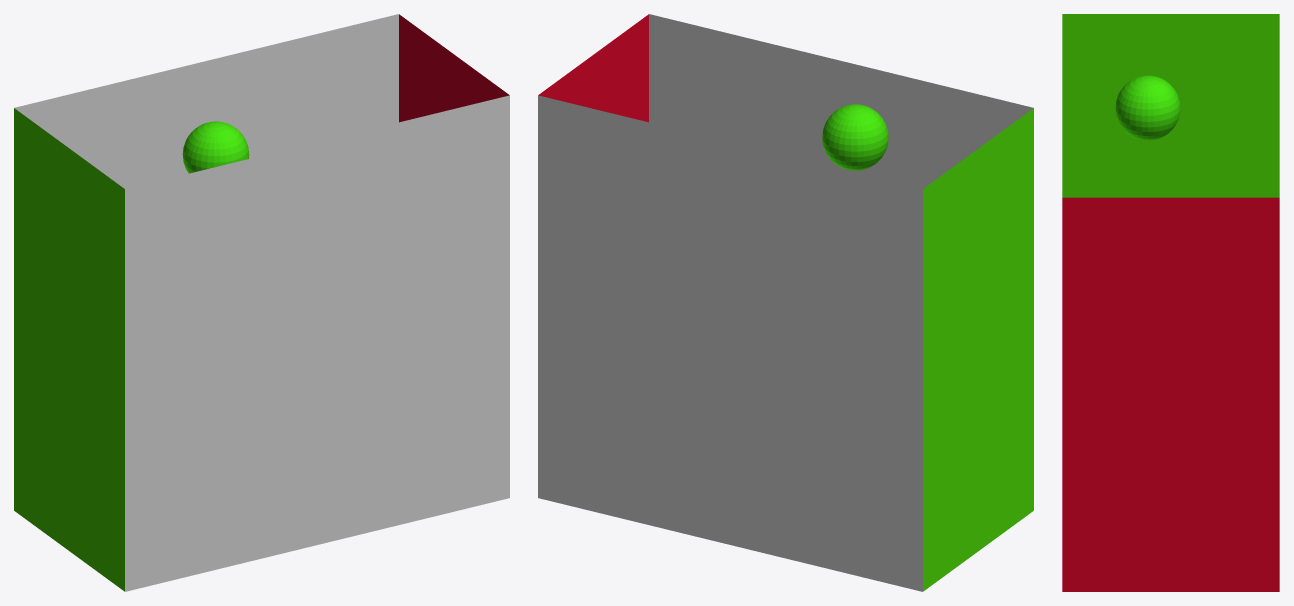
File: path_tracing_scene.dae
The picture shows the model from 3 angles, left to right: view 1: azimuth 30°, elevation 25°; view 2: azimuth 150°, elevation 25°; view 3: azimuth 270°, elevation 25°; orthographic projection. The views are drawn at different scales.
Visible parts, largest first — view 1: Cube.002, Sphere.002; view 2: Cube.002, Sphere.002; view 3: Cube.002, Sphere.002.
Part boxes in pixels (x1=…): Cube.002: x1=14, y1=14, x2=509, y2=591; Sphere.002: x1=182, y1=121, x2=249, y2=173; Cube.002: x1=538, y1=14, x2=1033, y2=591; Sphere.002: x1=822, y1=104, x2=888, y2=170; Cube.002: x1=1062, y1=14, x2=1279, y2=591; Sphere.002: x1=1115, y1=75, x2=1180, y2=140.
Size of the model in its own units: 2 by 1 by 2.
